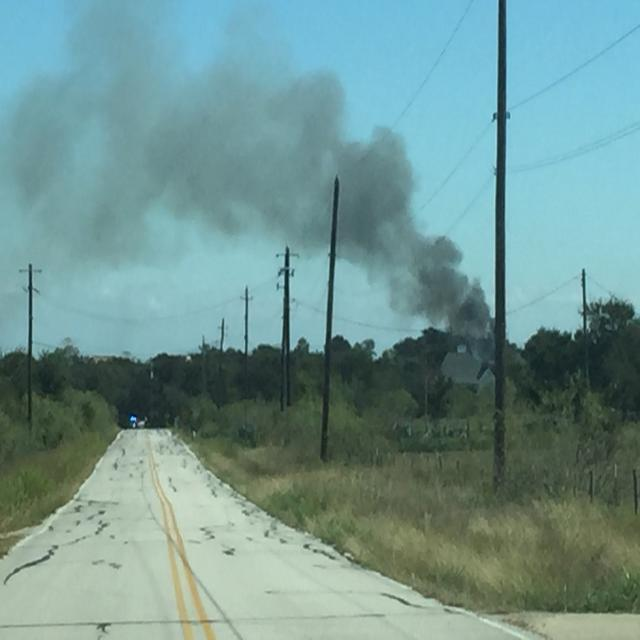Smoke: (11, 26, 493, 360)
